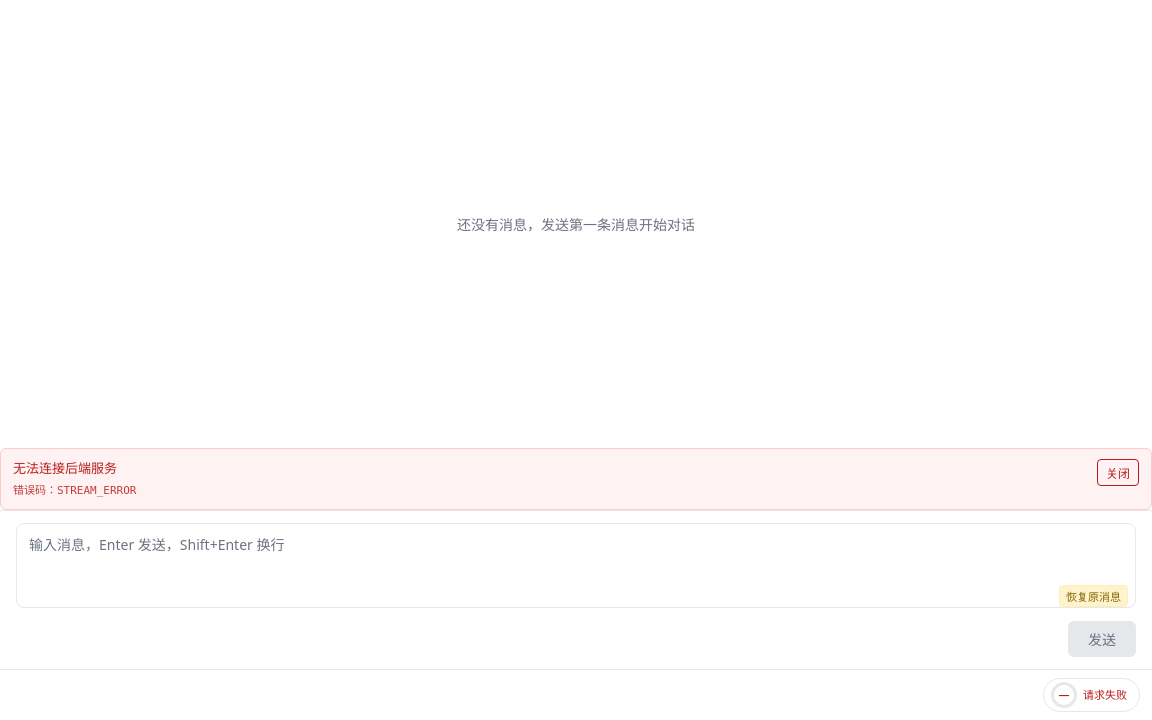
Test case: AgentChatPanel › 点击恢复原消息后 pendingSent 清空，textarea 恢复原文
What coordinates should you click on to do the following:
click the button "恢复原消息"
I would click on:
 (1094, 596)
Its box is [1059,585,1128,607].
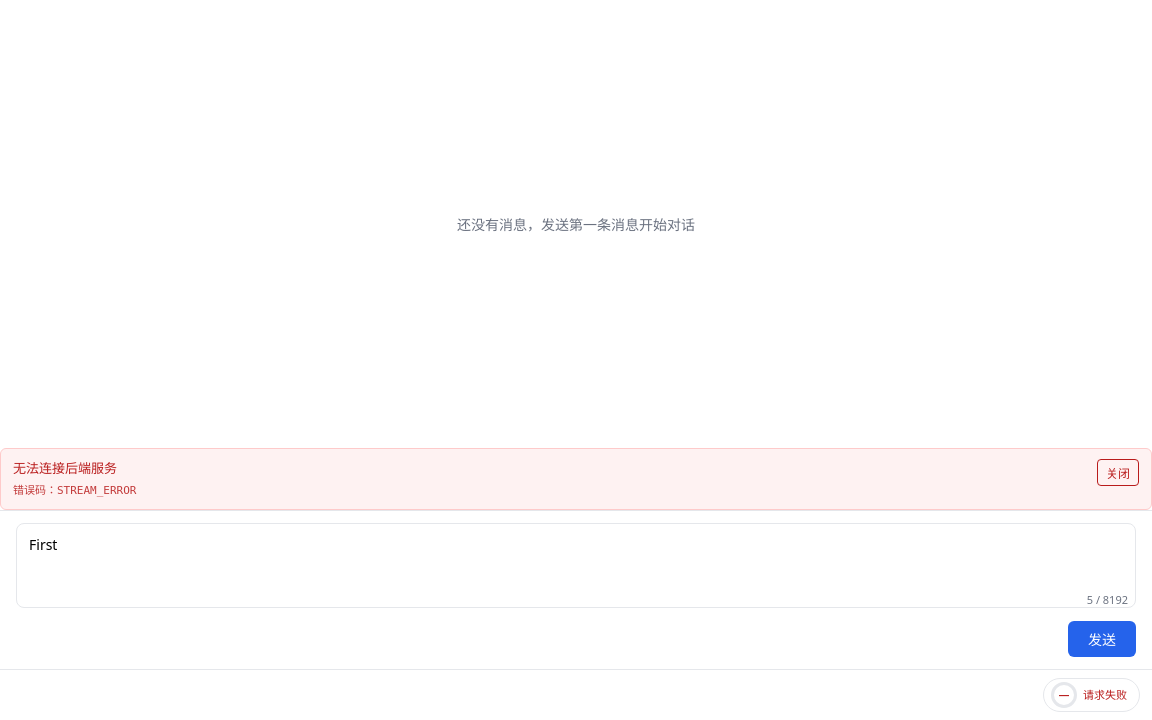
Result: the text box holds "First" at [16,523,1136,608]
Result: the button "恢复原消息" is gone
Result: the button with aria-label "发送消息" is enabled at [1068,621,1136,657]
